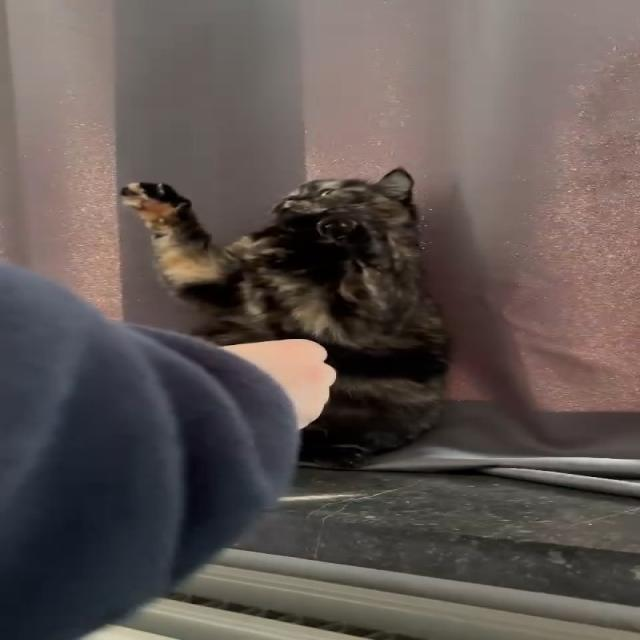authorized: (119, 166, 453, 469)
